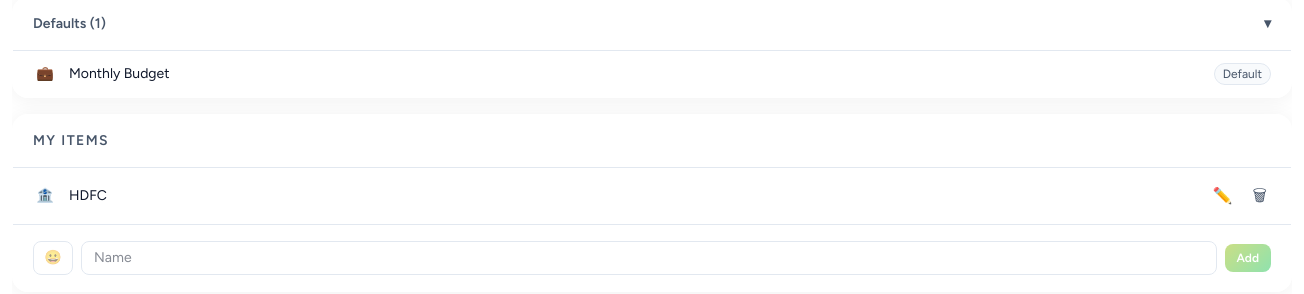
Scenario: BudgetDataTab — My Items (edit) › cancels edit on Cancel button
Click the button named "edit hdfc".
click(1223, 196)  # box left=1209, top=180, right=1237, bottom=212
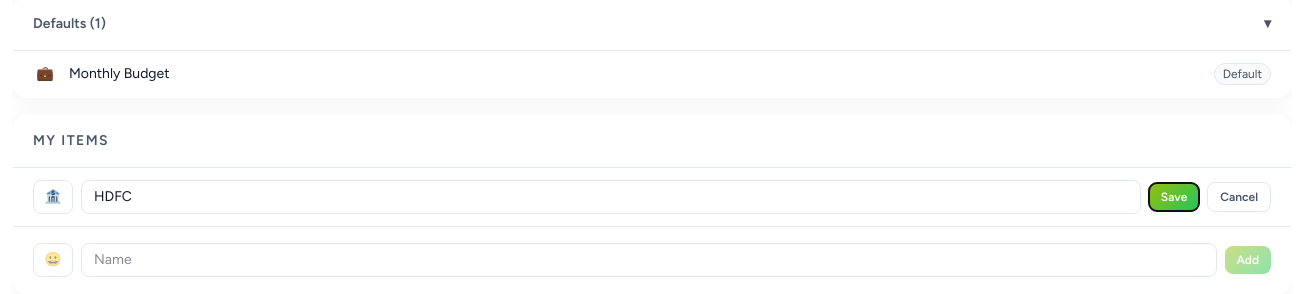
Click the button "Cancel".
click(1239, 197)  # box left=1207, top=182, right=1271, bottom=212
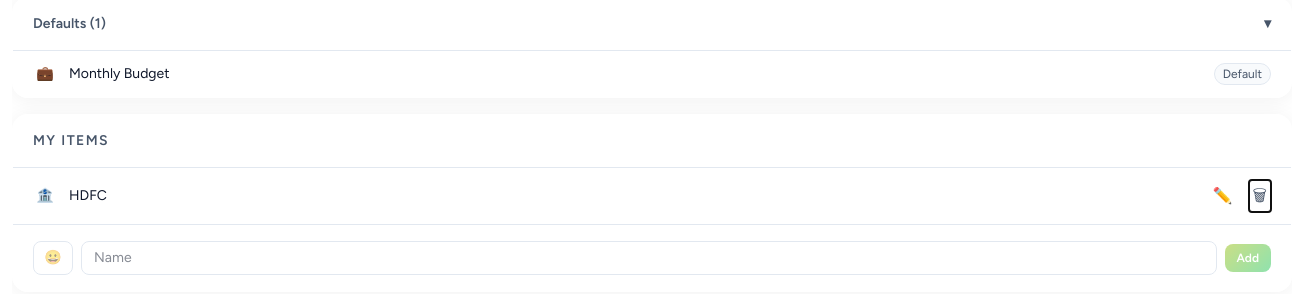
Expected: the text "HDFC" is shown, left=69, top=187, right=107, bottom=204
